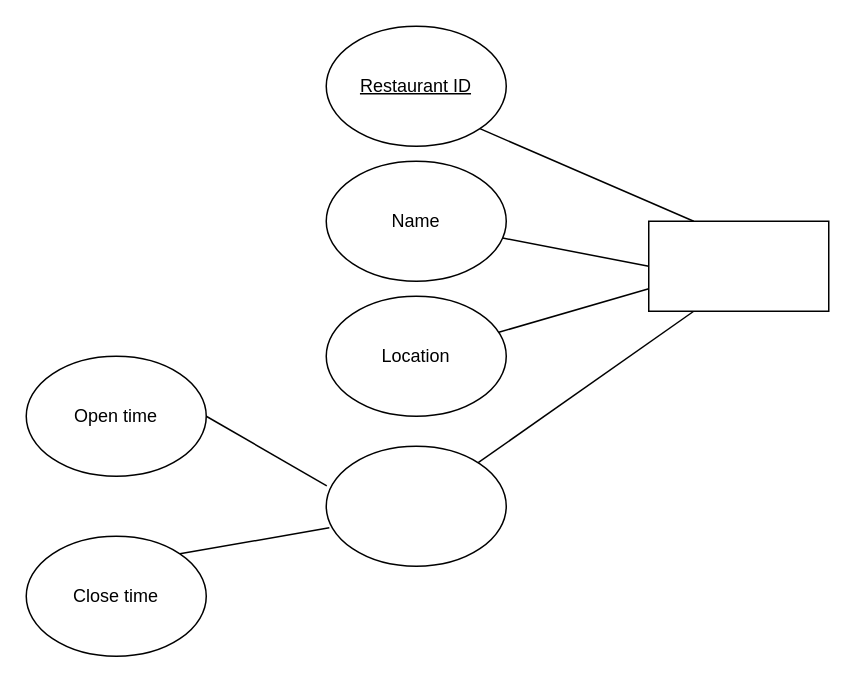
This 855x683 diagram has some shape labels left out. The shapes that lost their labels are listed below. From the top down, each one's centre as x and y in pixels, then its label:
At (x=738, y=265): "Restaurant".
At (x=415, y=505): "Open hour".
